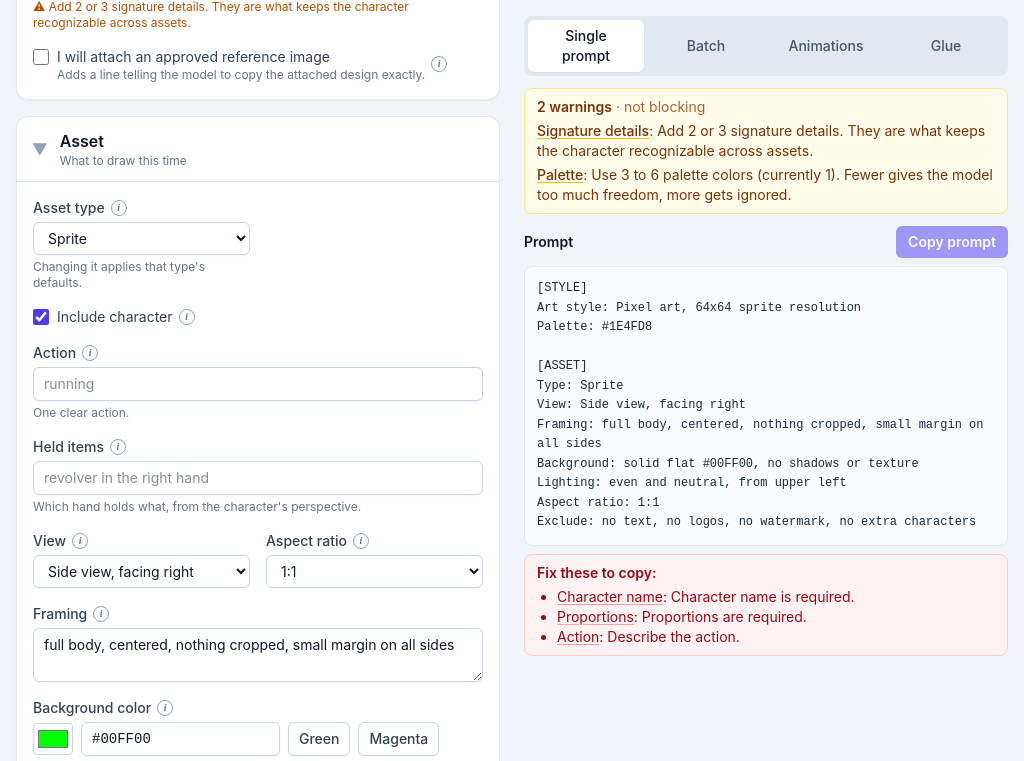
Test: App › applies asset type presets without wiping the action
(page scrolled)
Type "waving" into the field labelled "Action" at [258, 384], box [33,367,483,401]
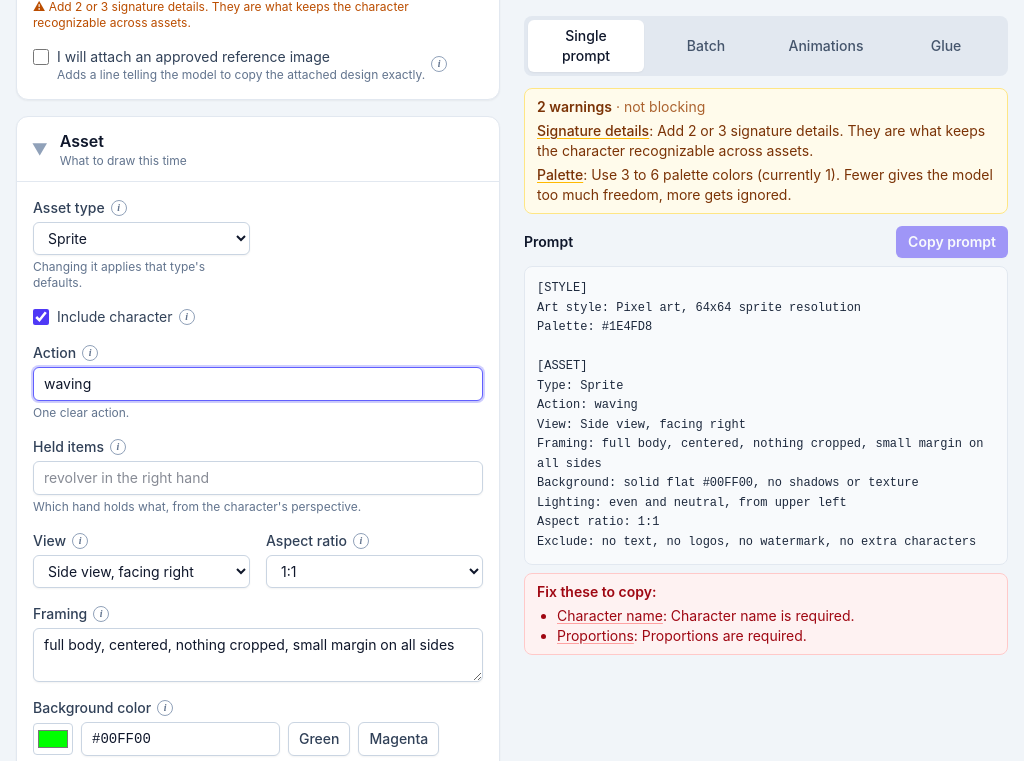
Select "Portrait" in the dropdown labelled "Asset type" at [142, 238], box [33,222,250,255]
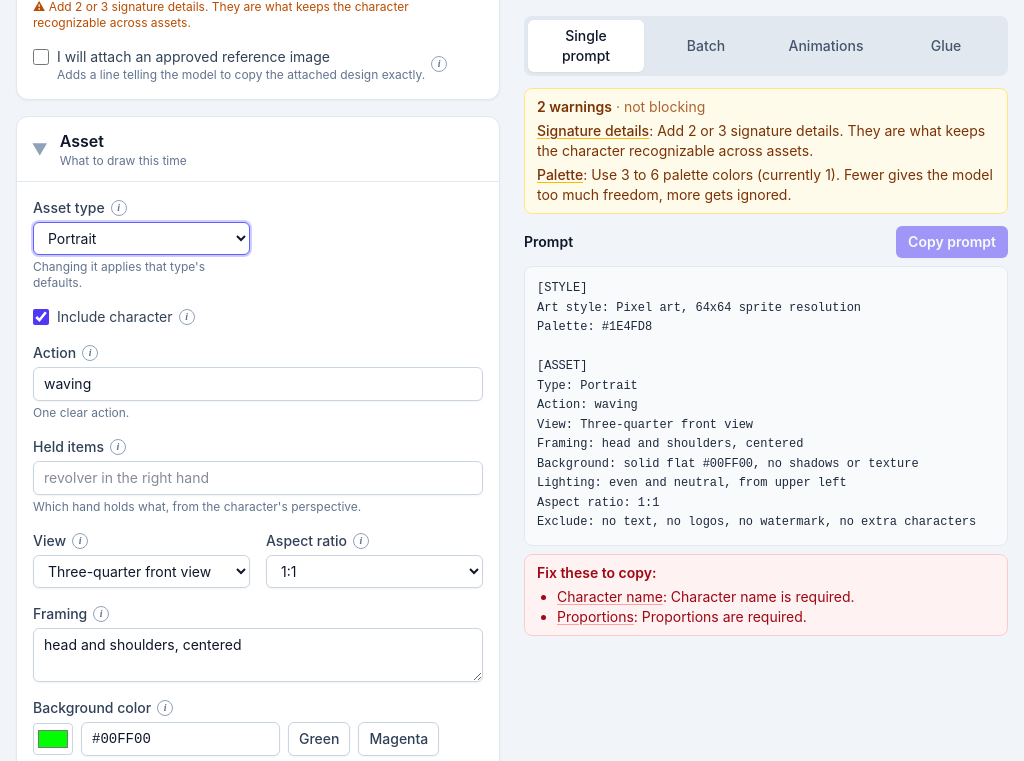
Result: the dropdown labelled "View" shows "Three-quarter front view" at [33,555,250,588]
Result: the text box labelled "Framing" holds "head and shoulders, centered" at [33,628,483,682]
Select "Sprite strip" in the dropdown labelled "Asset type" at [142, 238], box [33,222,250,255]
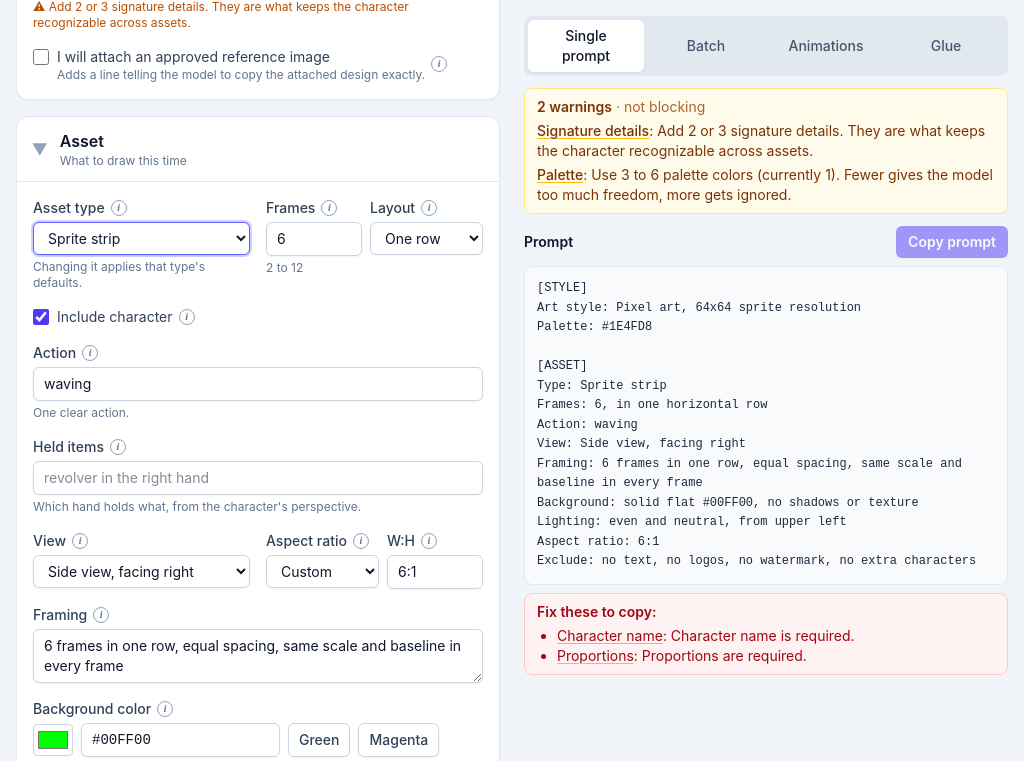
Result: the text with test id "prompt-preview" shows "Frames: 6, in one horizontal row" at [537,281,976,568]
Result: the text with test id "prompt-preview" shows "Aspect ratio: 6:1" at [537,281,976,568]
Replace the text in the number field labelled "Frames" with "8" at [314, 239], box [266,222,362,256]
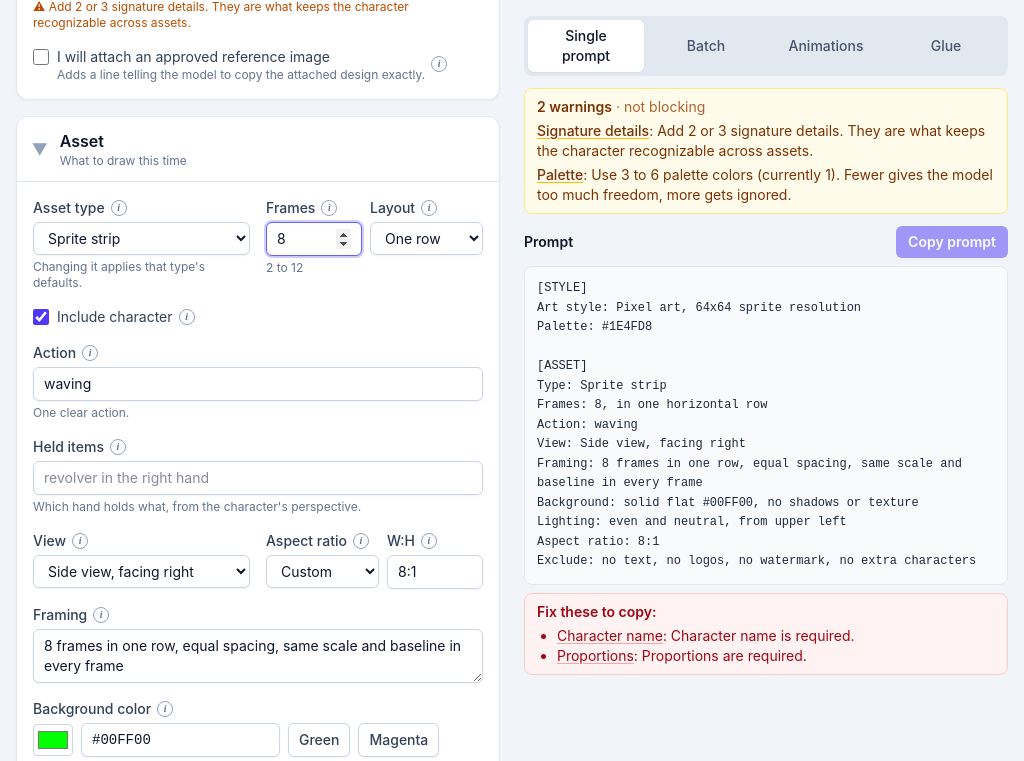
Result: the text with test id "prompt-preview" shows "Aspect ratio: 8:1" at [537,281,976,568]
Select "Background" in the dropdown labelled "Asset type" at [142, 238], box [33,222,250,255]
(page scrolled)
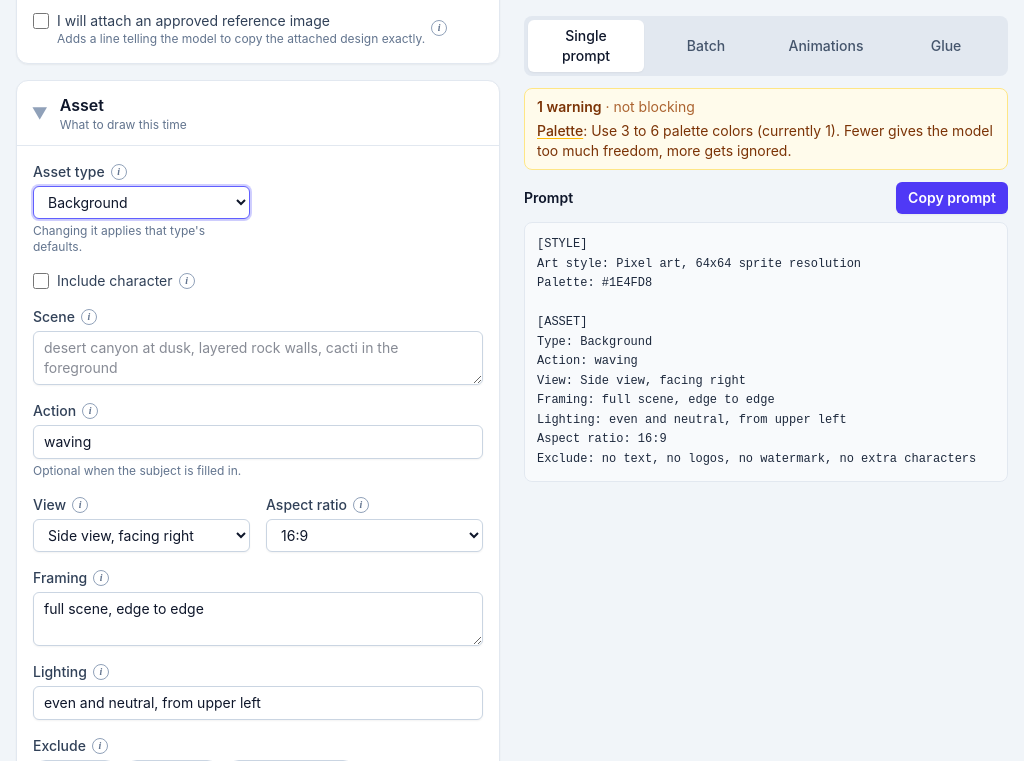
Result: the checkbox labelled "Include character" is not checked at [33,273,49,289]
Result: the label labelled "Background color" is gone
Result: the text box labelled "Scene" is shown at [33,331,483,385]
